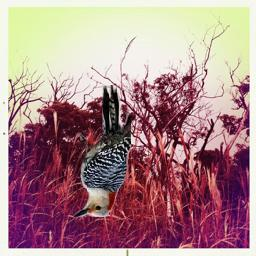Woodpecker: (73, 85, 132, 217)
